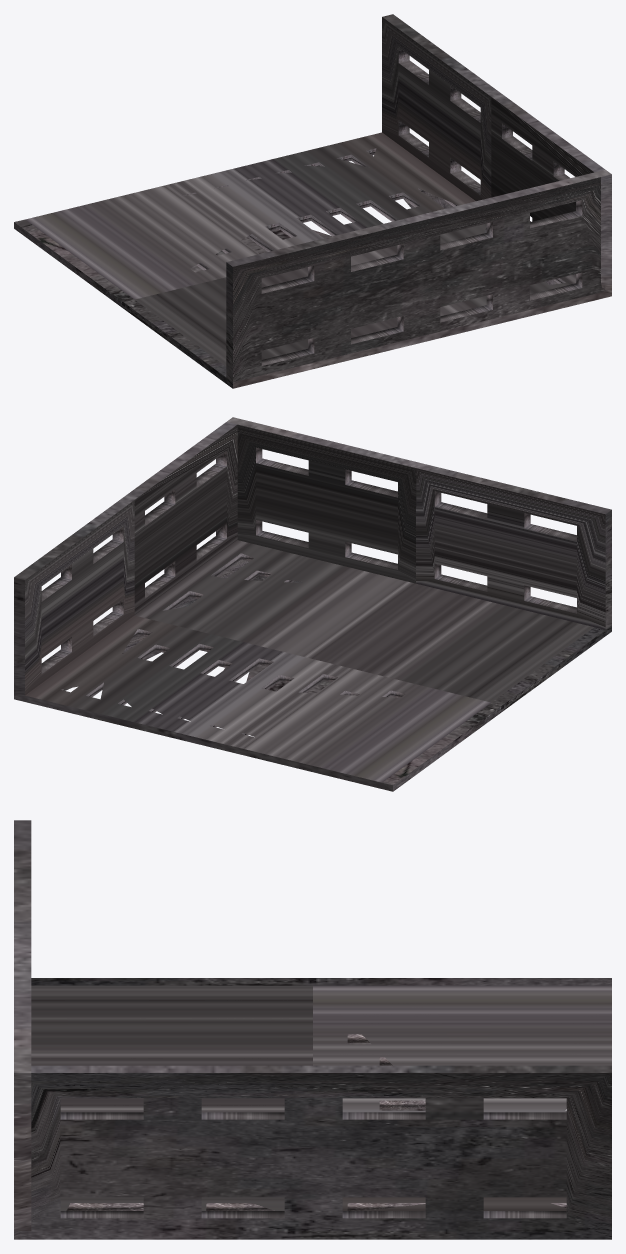
File: KabloSacKöşe.fbx
3 views of the same model, one above another, from view 1: azimuth 30°, elevation 25°; view 2: azimuth 150°, elevation 25°; view 3: azimuth 270°, elevation 25° (orthographic). The views are drawn at different scales.
Parts seen in each view (by area): view 1: Cube.004; view 2: Cube.004; view 3: Cube.004.
Part boxes in pixels (x1,y1,x2,y2): Cube.004: (14, 14, 611, 388); Cube.004: (14, 417, 611, 791); Cube.004: (14, 820, 611, 1239).
Size of the model in its own units: 30 by 9.22 by 30.
1 material, 1 textured.
